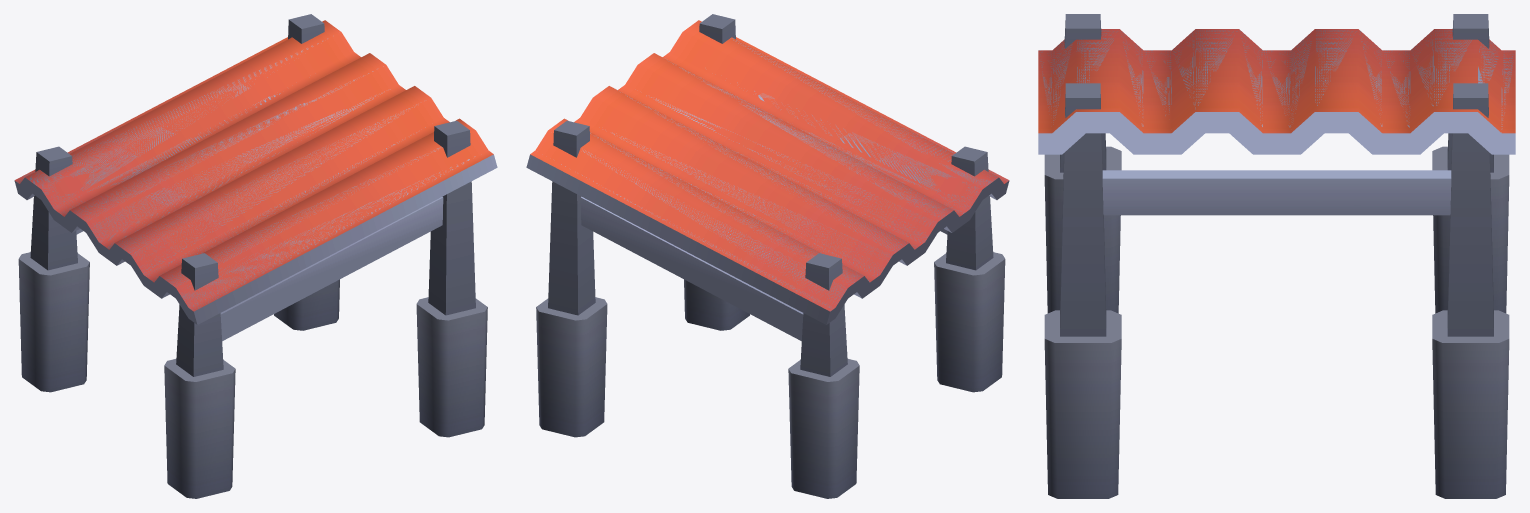
Rendered from structure-metal-roof.glb.
3 renders of one model, left to right at view 1: azimuth 30°, elevation 25°; view 2: azimuth 150°, elevation 25°; view 3: azimuth 270°, elevation 25°, orthographic. The views are drawn at different scales.
Visible parts, largest first — view 1: structure-metal-roof; view 2: structure-metal-roof; view 3: structure-metal-roof.
Part boxes in pixels (box(x1,y1,x2,y2)): structure-metal-roof: box(14, 14, 497, 498); structure-metal-roof: box(526, 14, 1009, 498); structure-metal-roof: box(1038, 14, 1515, 498).
Bounding box in the file's own units: 0.5442 × 0.5 × 0.55.
1 material, 1 textured.
